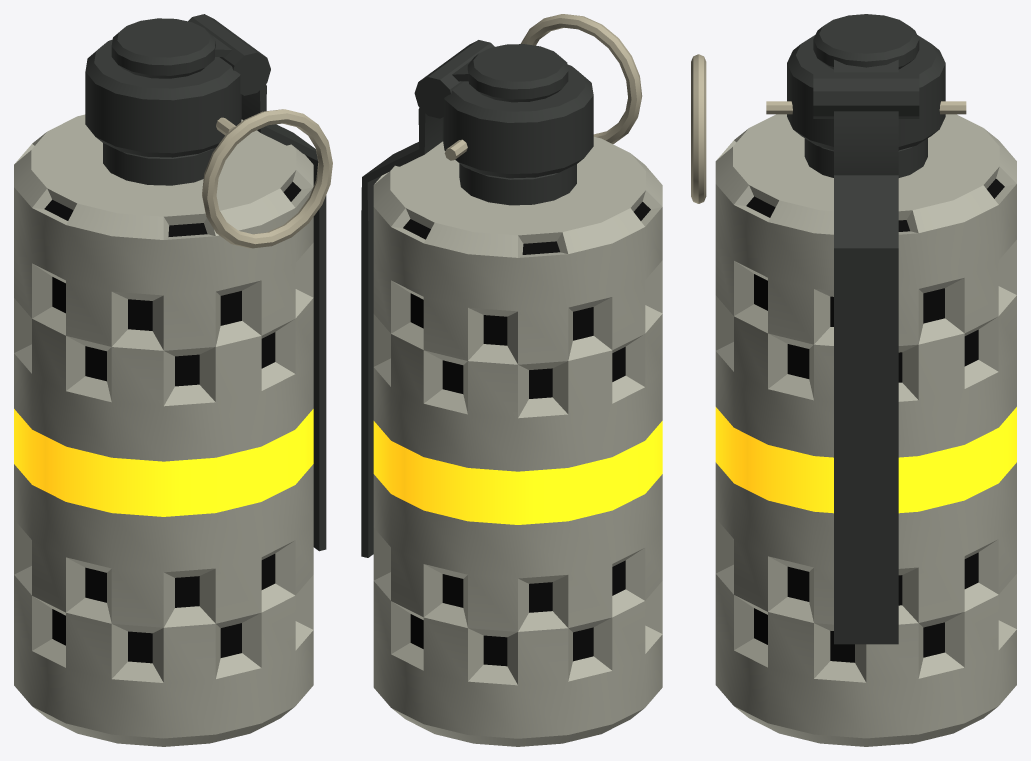
Rendered from flash.glb.
The picture shows the model from 3 angles, left to right: view 1: azimuth 30°, elevation 25°; view 2: azimuth 150°, elevation 25°; view 3: azimuth 270°, elevation 25°; orthographic projection. The views are drawn at different scales.
Parts seen in each view (by area): view 1: Flash; view 2: Flash; view 3: Flash.
Boxes of the visible parts, x1,y1,x2,y2 form: Flash: [14, 14, 332, 746]; Flash: [361, 14, 662, 746]; Flash: [691, 14, 1016, 746].
Size of the model in its own units: 0.0549 by 0.123 by 0.0554.
